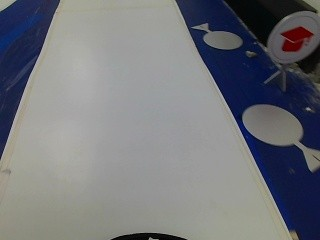school: (262, 7, 319, 68)
